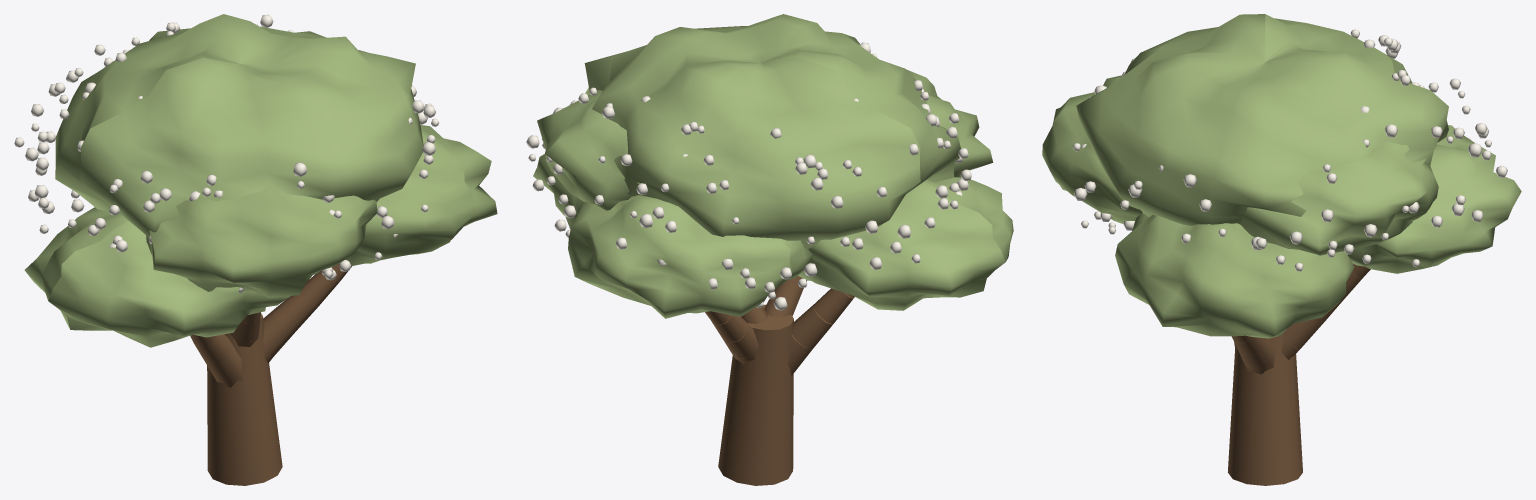
The model's file is naspolya-tavasz.glb.
3 views of the same model, side by side, from view 1: azimuth 30°, elevation 25°; view 2: azimuth 150°, elevation 25°; view 3: azimuth 270°, elevation 25° (orthographic).
Visible parts, largest first — view 1: korona-tomeg, korona-4, korona-1, korona-2, torzs, virag, ag-2-3, ag-2-2, ag-1-2, ag-2-4, ag-1-3; view 2: korona-tomeg, korona-3, korona-1, torzs, virag, korona-5, korona-4, ag-1-3, ag-1-4, ag-4-2, korona-2, ag-3-2 (+1 smaller); view 3: korona-tomeg, korona-2, korona-5, korona-3, torzs, virag, korona-4, ag-3-2, ag-2-2.
Part boxes in pixels (x1,y1,x2,y2): korona-tomeg: [55, 14, 423, 237]; korona-4: [146, 186, 377, 298]; korona-1: [24, 207, 290, 347]; korona-2: [340, 125, 497, 265]; torzs: [207, 313, 282, 485]; virag: [14, 14, 439, 292]; ag-2-3: [273, 293, 317, 332]; ag-2-2: [263, 310, 294, 356]; ag-1-2: [205, 341, 242, 383]; ag-2-4: [301, 270, 339, 307]; ag-1-3: [194, 334, 232, 364]; korona-tomeg: [584, 14, 960, 248]; korona-3: [560, 195, 812, 318]; korona-1: [798, 177, 1013, 310]; torzs: [718, 304, 793, 485]; virag: [526, 42, 971, 310]; korona-5: [537, 89, 641, 210]; korona-4: [907, 70, 993, 182]; ag-1-3: [791, 304, 832, 348]; ag-1-4: [813, 288, 853, 323]; ag-4-2: [765, 281, 803, 316]; korona-2: [533, 154, 572, 215]; ag-3-2: [722, 323, 758, 358]; korona-tomeg: [1076, 14, 1448, 225]; korona-2: [1115, 213, 1354, 338]; korona-5: [1240, 141, 1438, 255]; korona-3: [1347, 125, 1521, 273]; torzs: [1228, 332, 1302, 485]; virag: [1073, 29, 1507, 271]; korona-4: [1042, 75, 1142, 220]; ag-3-2: [1283, 320, 1323, 349]; ag-2-2: [1237, 338, 1275, 370].
Size of the model in its own units: 4.58 by 4.21 by 4.3.
